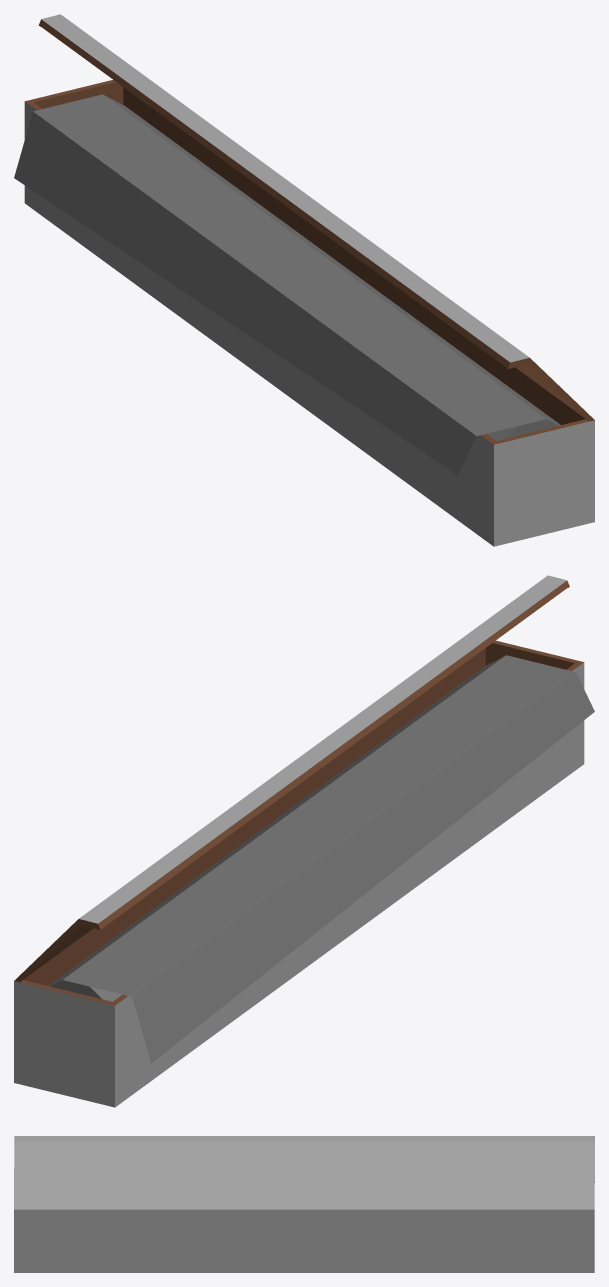
Rendered from FoilBox.fbx.
3 views of the same model, one above another, from view 1: azimuth 30°, elevation 25°; view 2: azimuth 150°, elevation 25°; view 3: azimuth 270°, elevation 25° (orthographic). The views are drawn at different scales.
Parts seen in each view (by area): view 1: FoilRoll, FoilBoxOpen; view 2: FoilRoll, FoilBoxOpen; view 3: FoilBoxOpen.
Part boxes in pixels (x1,y1,x2,y2): FoilRoll: (14, 94, 560, 475); FoilBoxOpen: (24, 14, 594, 546); FoilRoll: (48, 655, 594, 1063); FoilBoxOpen: (14, 575, 584, 1107); FoilBoxOpen: (14, 1136, 594, 1272).
Bounding box in the file's own units: 19.57 × 27.05 × 128.
